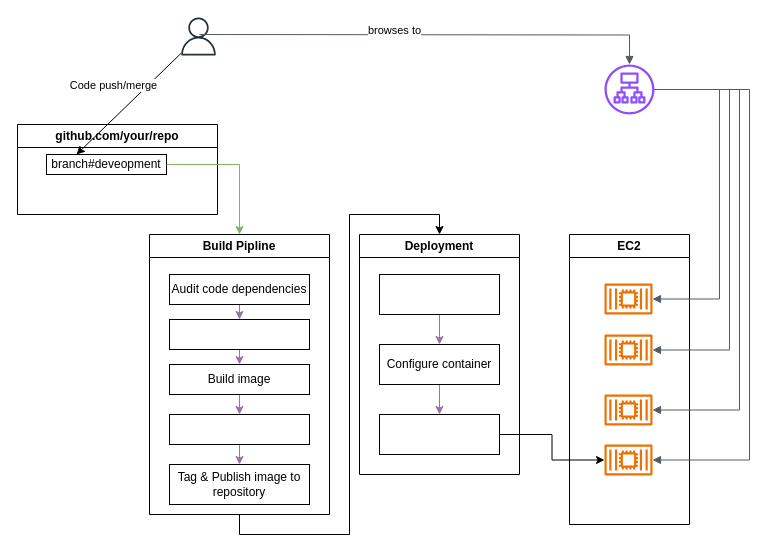
This 775x560 diagram has some shape labels left out. The shapes that lost their labels are listed below. From the top down, each one's centre as x and y in pixels, then its label:
(439,294): Create container (from image)
(239,334): Build code
(239,429): Audit image
(439,434): Start container
